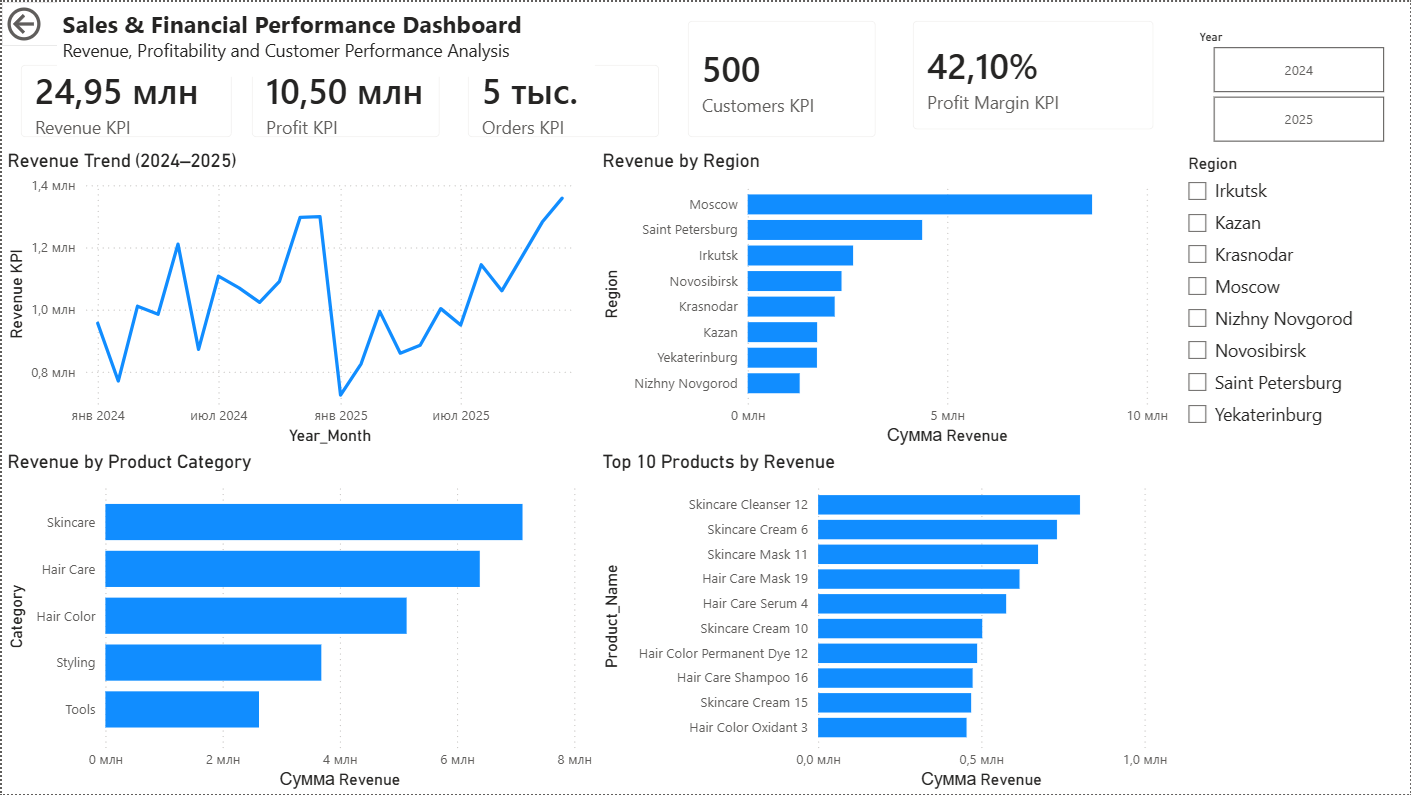

What the dashboard file says about the page in this screenshot:
{"tool":"powerbi","page":{"name":"Executive Dashboard","canvas":[1280,720],"ordinal":0},"visuals":[{"type":"cardVisual","fields":{"Data":["Sales.Total Revenue"]},"box":[0,40,226.2,100],"z":0},{"type":"cardVisual","fields":{"Data":["Sales.Total Profit"]},"box":[210,40,205,100],"z":1000},{"type":"cardVisual","fields":{"Data":["Sales.Total Orders"]},"box":[406.2,40,208.8,100],"z":2000},{"type":"cardVisual","fields":{"Data":["Sales.Total Customers"]},"box":[606.2,0,205,140],"z":3000},{"type":"cardVisual","fields":{"Data":["Sales.Profit Margin KPI"]},"box":[811.2,0,253.8,133.8],"z":4000},{"type":"lineChart","title":"Revenue Trend (2024–2025)","fields":{"Category":["Calendar.Year_Month"],"Y":["Sales.Total Revenue"]},"box":[0,133.8,541.2,273.8],"z":5000},{"type":"actionButton","box":[0,0,100,40],"z":6000},{"type":"barChart","title":"Revenue by Product Category","fields":{"Category":["Products.Category"],"Y":["Sum(Sales.Revenue)"]},"box":[0,407.5,541.2,312.5],"z":7000},{"type":"barChart","title":"Top 10 Products by Revenue","fields":{"Category":["Products.Product_Name"],"Y":["Sum(Sales.Revenue)"]},"box":[541.2,407.5,523.8,312.5],"z":8000},{"type":"barChart","title":"Revenue by Region","fields":{"Category":["Sales.Region"],"Y":["Sum(Sales.Revenue)"]},"box":[541.2,133.8,523.8,273.8],"z":9000},{"type":"textbox","box":[50,0,488.8,67.5],"z":10000},{"type":"slicer","fields":{"Values":["Calendar.Year"]},"box":[1075,20,205,113.8],"z":11000},{"type":"slicer","fields":{"Values":["Sales.Region"]},"box":[1065,133.8,205,273.8],"z":12000}]}

Visuals, with their boxes in screenshot pixels (x1, y1, x2, y2), scaled from the page's 1280x720 canvas onto the 1411x795 screenshot:
cardVisual - Sales.Total Revenue: Rect(0, 44, 249, 155)
cardVisual - Sales.Total Profit: Rect(231, 44, 457, 155)
cardVisual - Sales.Total Orders: Rect(448, 44, 678, 155)
cardVisual - Sales.Total Customers: Rect(668, 0, 894, 155)
cardVisual - Sales.Profit Margin KPI: Rect(894, 0, 1174, 148)
"Revenue Trend (2024–2025)" lineChart: Rect(0, 148, 597, 450)
actionButton: Rect(0, 0, 110, 44)
"Revenue by Product Category" barChart: Rect(0, 450, 597, 794)
"Top 10 Products by Revenue" barChart: Rect(597, 450, 1174, 794)
"Revenue by Region" barChart: Rect(597, 148, 1174, 450)
textbox: Rect(55, 0, 594, 75)
slicer - Calendar.Year: Rect(1185, 22, 1410, 148)
slicer - Sales.Region: Rect(1174, 148, 1400, 450)
